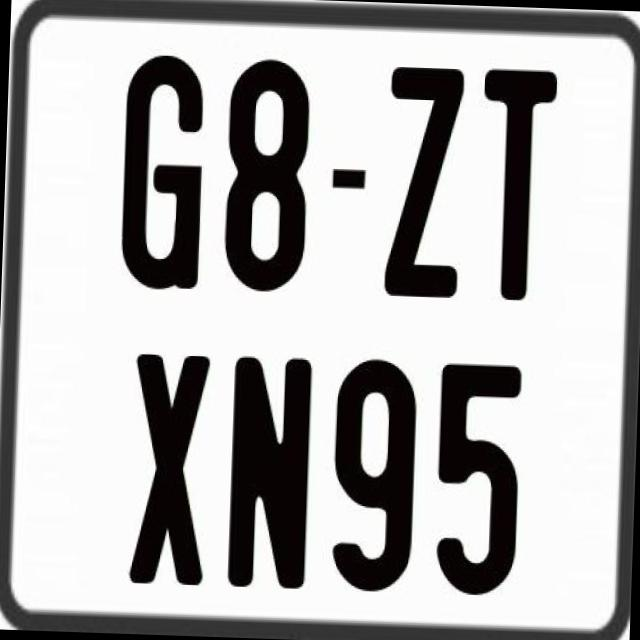5: (431, 361, 526, 594)
8: (221, 54, 312, 298)
9: (325, 356, 419, 600)
G: (120, 49, 213, 292)
N: (222, 354, 314, 596)
T: (473, 64, 557, 299)
X: (126, 353, 206, 588)
Z: (380, 64, 461, 306)
